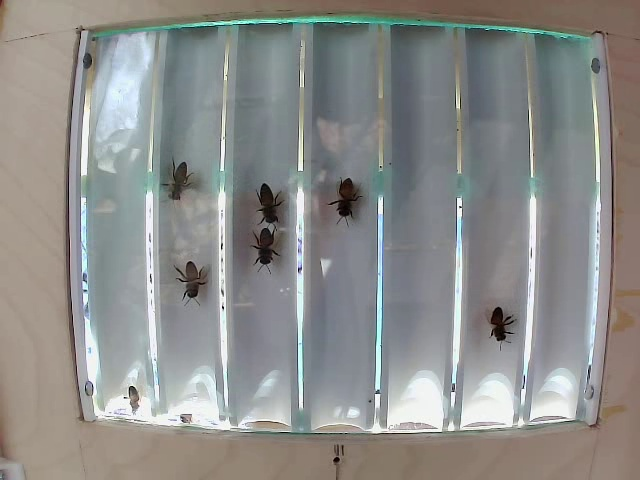bee: (319, 162, 370, 223), (238, 170, 287, 228), (168, 249, 212, 312), (241, 215, 286, 271), (160, 140, 203, 193), (482, 299, 519, 352)
